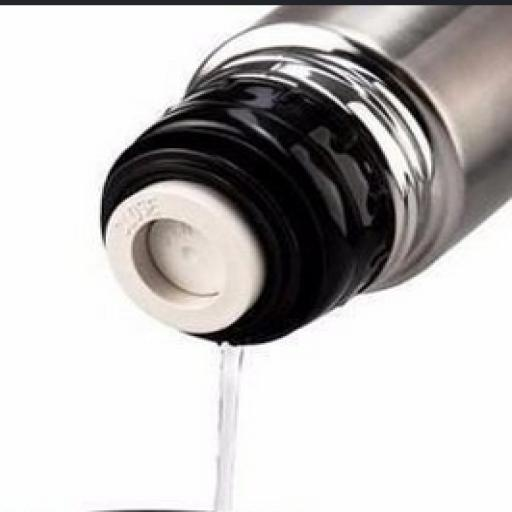termo: (101, 4, 511, 344)
